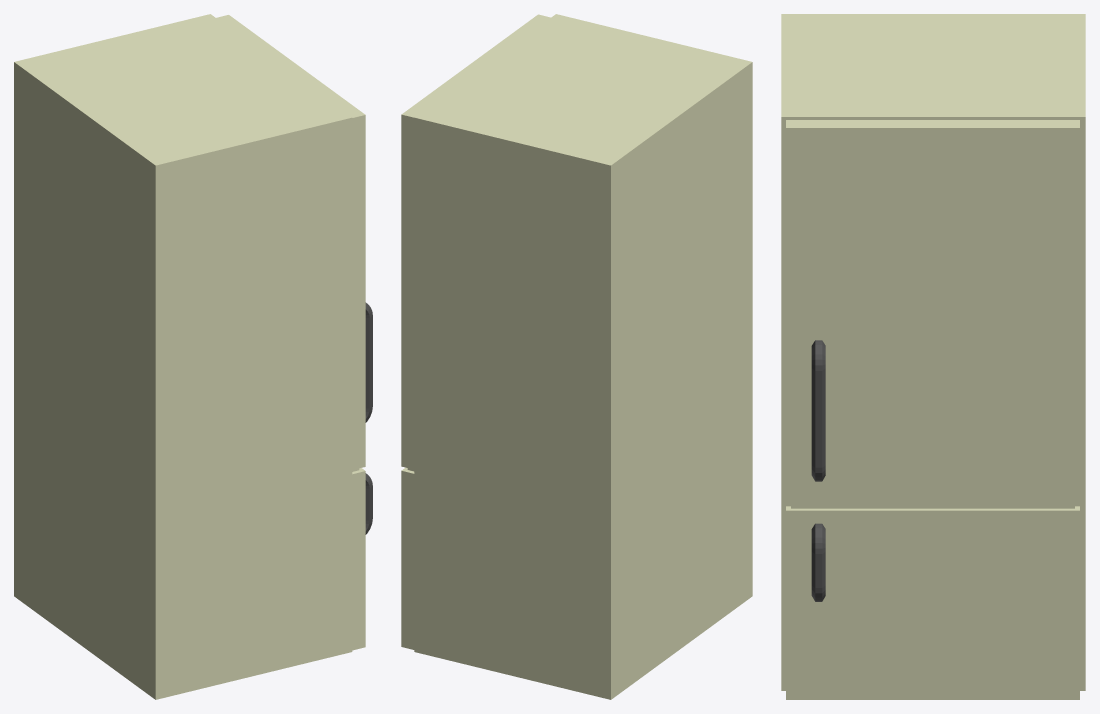
The model's file is bingxiang.fbx.
The picture shows the model from 3 angles, left to right: view 1: azimuth 30°, elevation 25°; view 2: azimuth 150°, elevation 25°; view 3: azimuth 270°, elevation 25°; orthographic projection. The views are drawn at different scales.
Visible parts, largest first — view 1: 立方体.288, fridge.005; view 2: 立方体.288, fridge.005; view 3: fridge.005, 立方体.288.
Part boxes in pixels (x1,y1,x2,y2): 立方体.288: [14, 14, 352, 699]; fridge.005: [216, 15, 372, 650]; 立方体.288: [414, 14, 752, 699]; fridge.005: [401, 14, 550, 649]; fridge.005: [786, 120, 1079, 699]; 立方体.288: [781, 14, 1085, 690].
Bounding box in the file's own units: 211 × 462 × 222.
